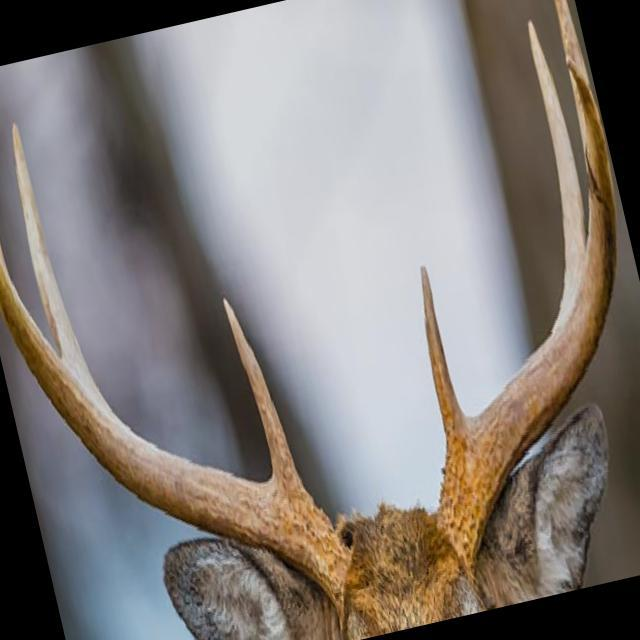L-F: (438, 57, 618, 567)
L-G1: (419, 263, 467, 450)
L-G2: (527, 19, 586, 322)
R-F: (0, 257, 348, 620)
R-G1: (222, 294, 307, 495)
R-G2: (11, 123, 113, 414)
